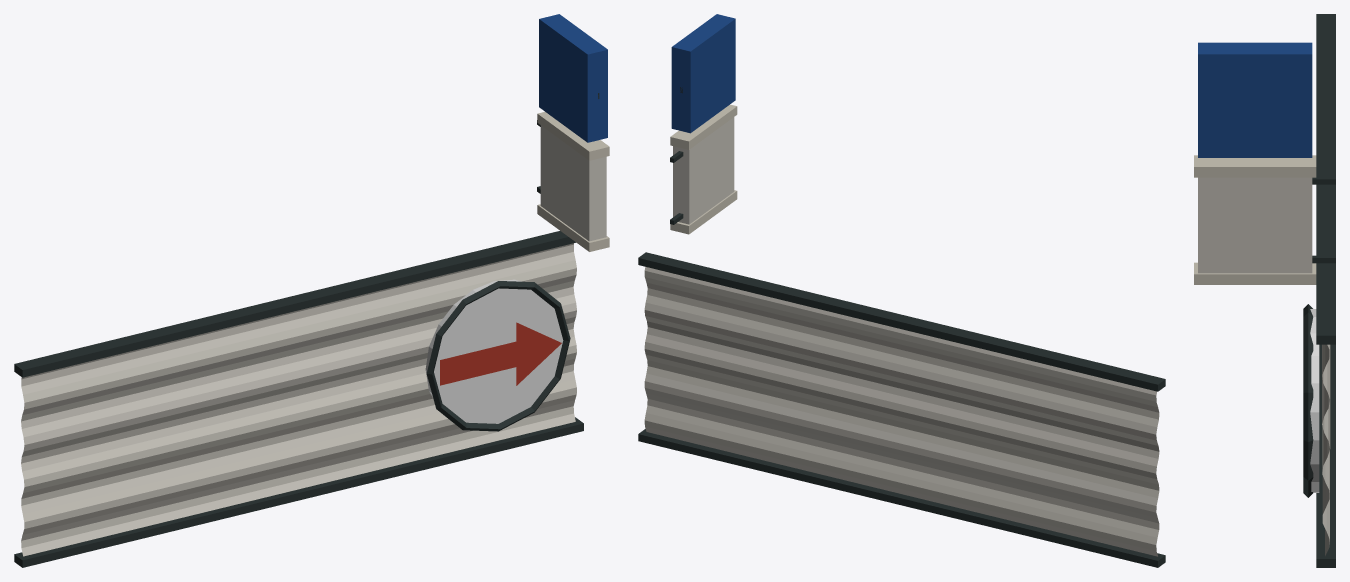
Rendered from bang_giu_xe_thang_40.glb.
3 renders of one model, left to right at view 1: azimuth 30°, elevation 25°; view 2: azimuth 150°, elevation 25°; view 3: azimuth 270°, elevation 25°, orthographic. The views are drawn at different scales.
Visible parts, largest first — view 1: bang_giu_xe_thang_40; view 2: bang_giu_xe_thang_40; view 3: bang_giu_xe_thang_40.
Boxes of the visible parts, box(x1,y1,x2,y2) form: bang_giu_xe_thang_40: box(14, 14, 609, 567); bang_giu_xe_thang_40: box(638, 14, 1165, 567); bang_giu_xe_thang_40: box(1194, 14, 1335, 567).
Size of the model in its own units: 3.86 by 2.79 by 0.72.
